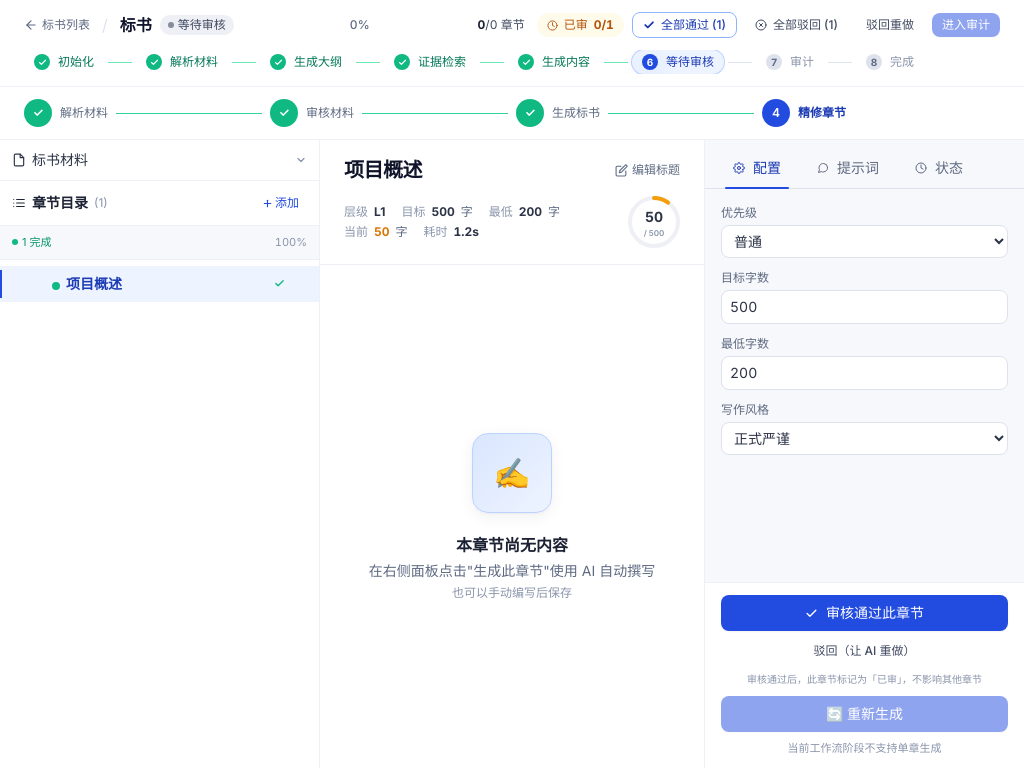
Scenario: BidWorkspace — RejectionReasonModal › opens the modal when the per-chapter reject button is clicked
Click the button "驳回（让 AI 重做）": (864, 651) [721,639,1008,663]
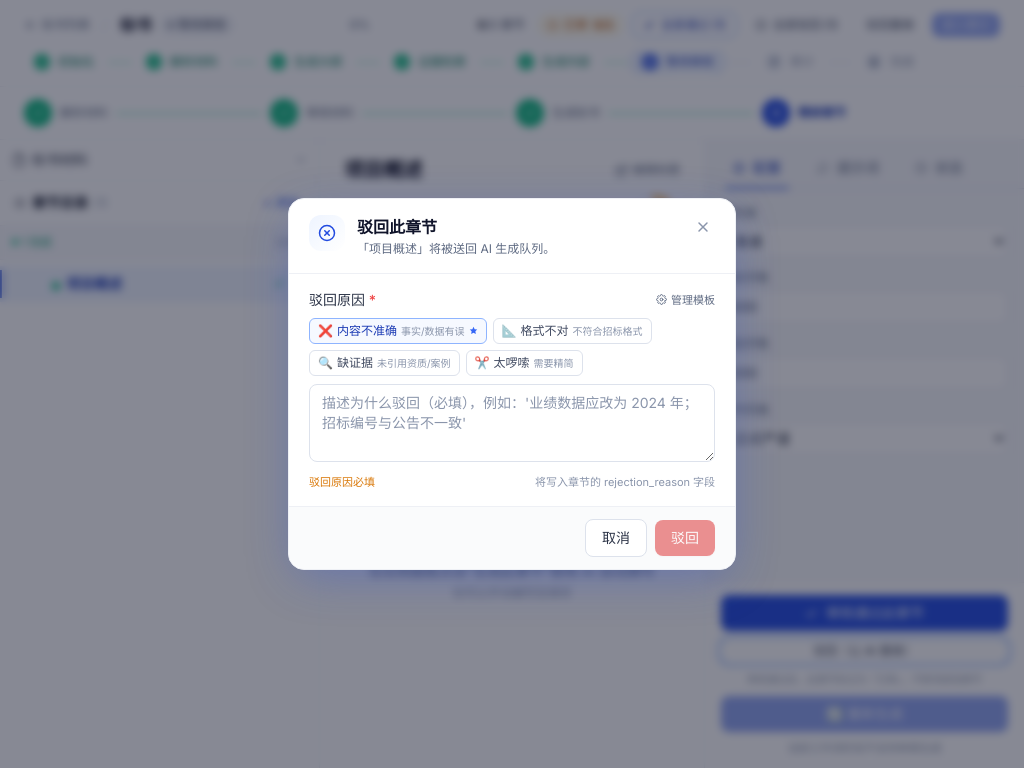
Check: the heading "驳回此章节" is shown, box [357,217,437,237]
Check: the button "取消" is shown, box [585,519,647,557]
Check: the button "驳回" is shown, box [655,520,715,556]
